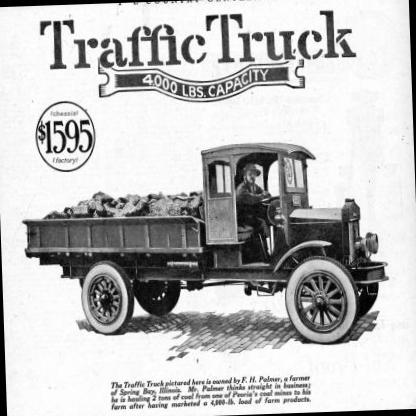truck: (24, 126, 410, 369)
